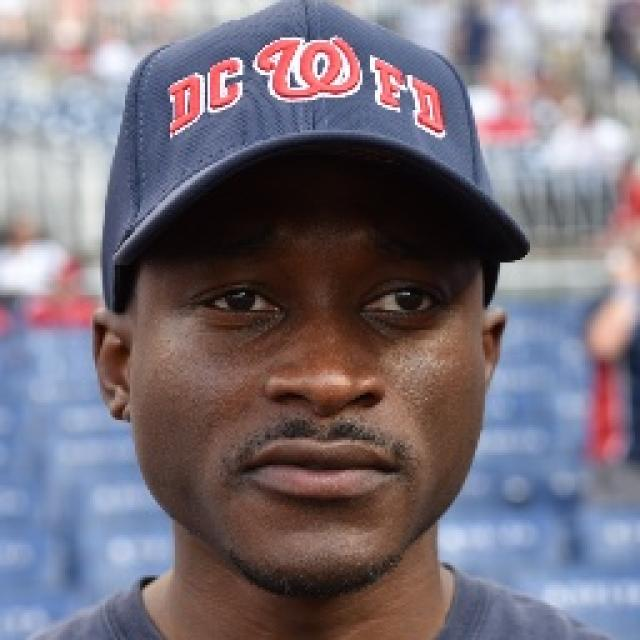earlobe: (90, 309, 132, 425), (482, 304, 510, 402)
